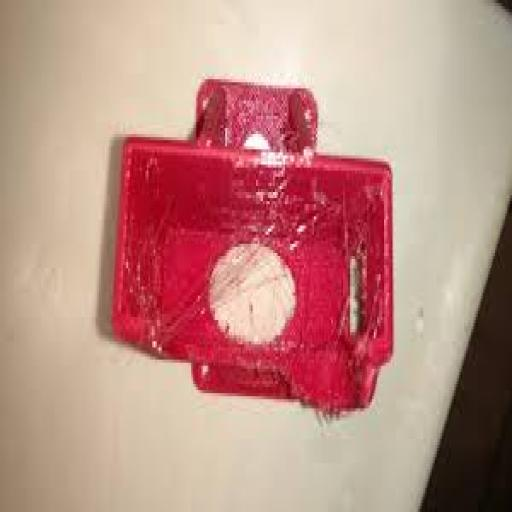stringing: (132, 153, 382, 385)
